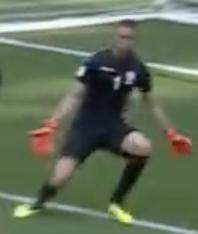goalkeeper: (11, 14, 195, 231)
